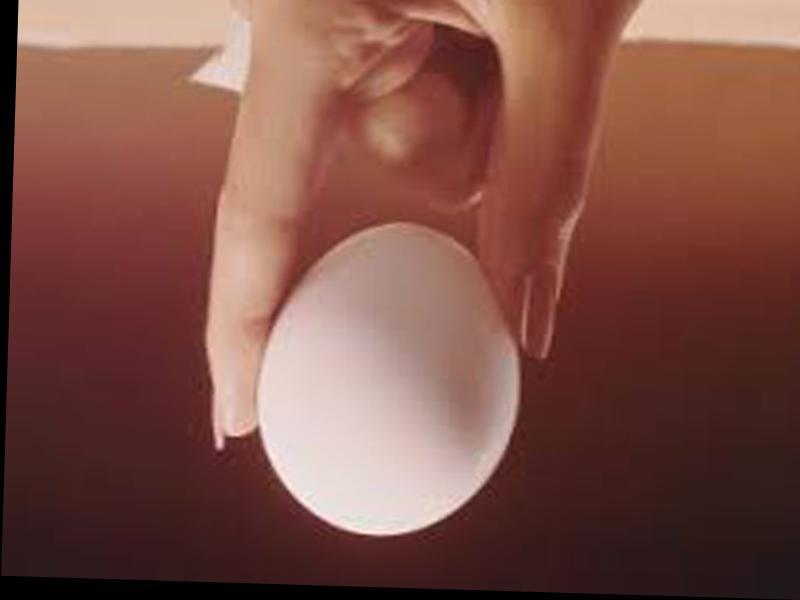Eggs: (253, 214, 529, 538)
